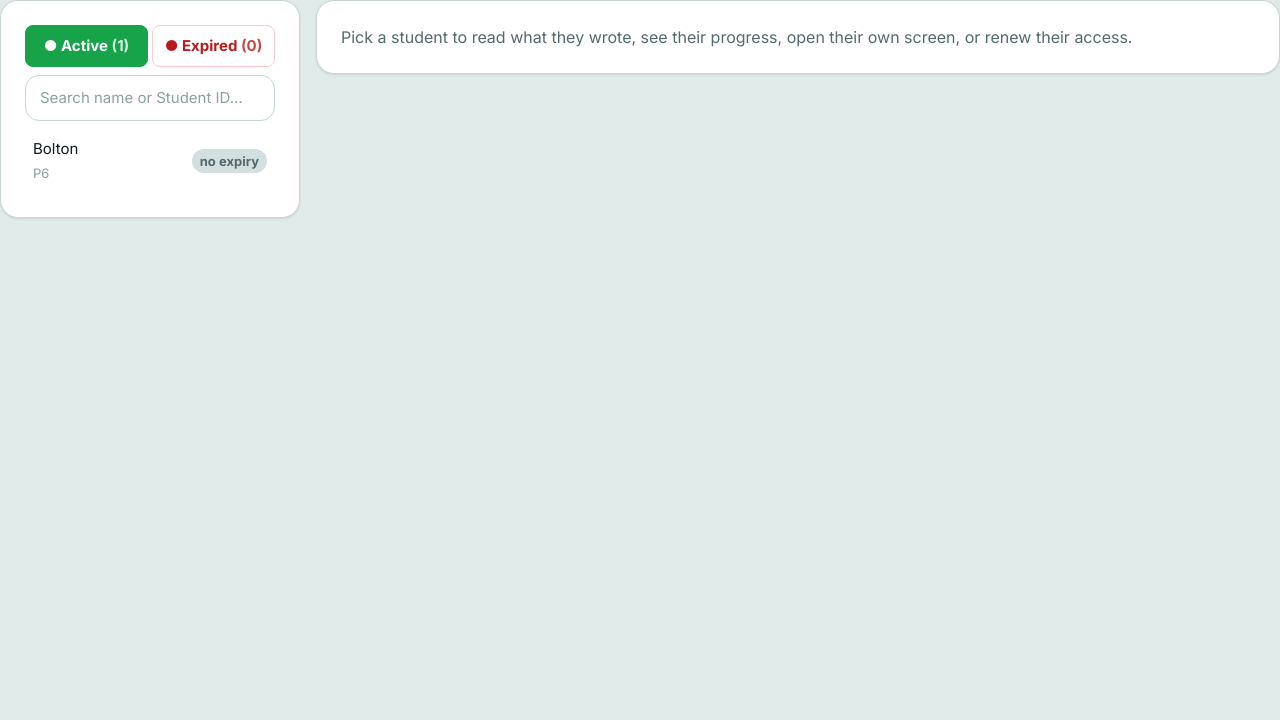
Test case: Students · tapping a student › lands on what they wrote, without pressing anything else
Step 1. Click the text "Bolton" → click(56, 148), box [33,139,78,158]
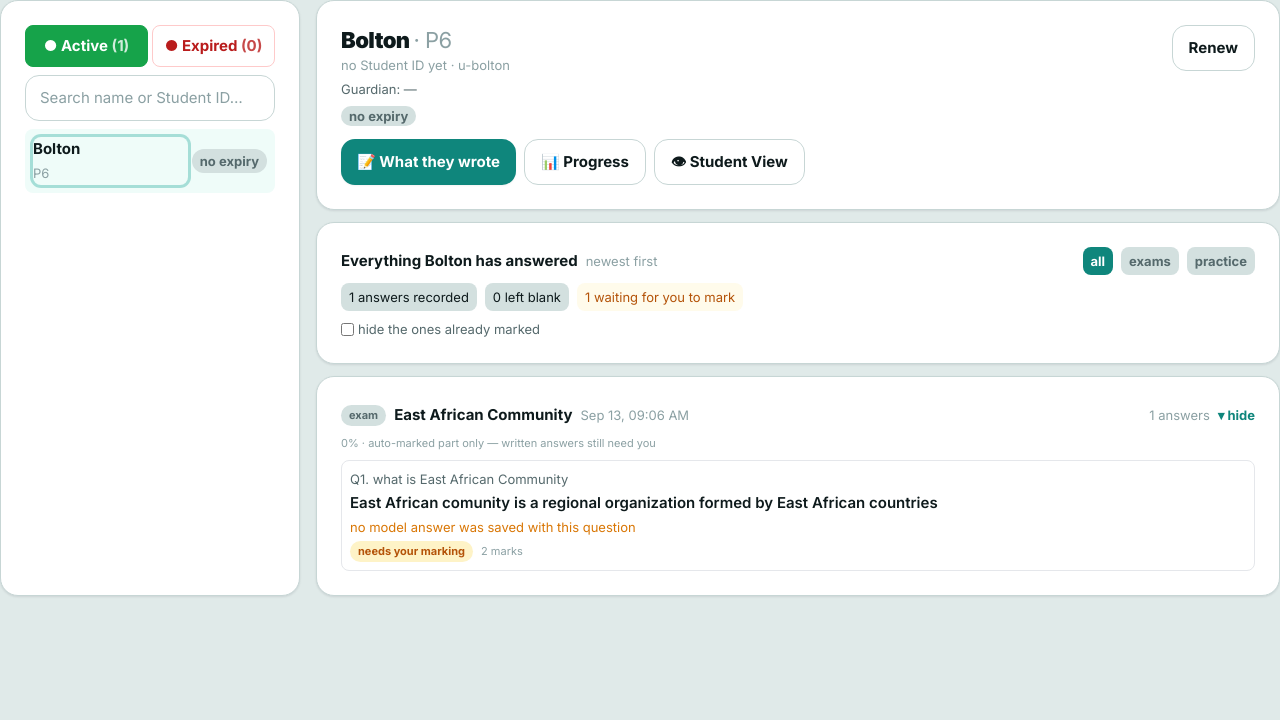
Check: the text "Everything Bolton has answered" is shown, box [341,249,578,273]
Check: the text "East African comunity is a regional organization formed by East African countries" is shown, box [350,493,938,512]
